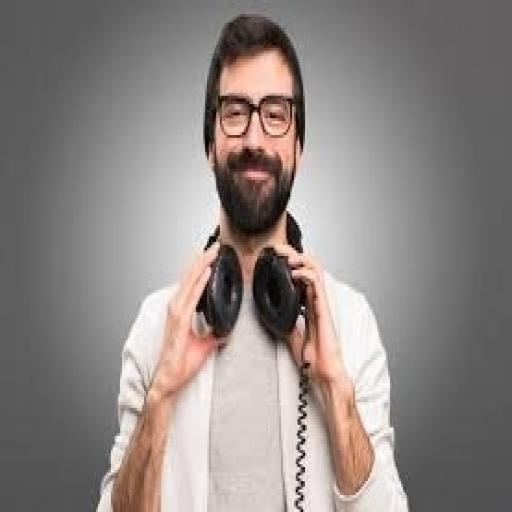listening_to_music: (91, 11, 412, 509)
